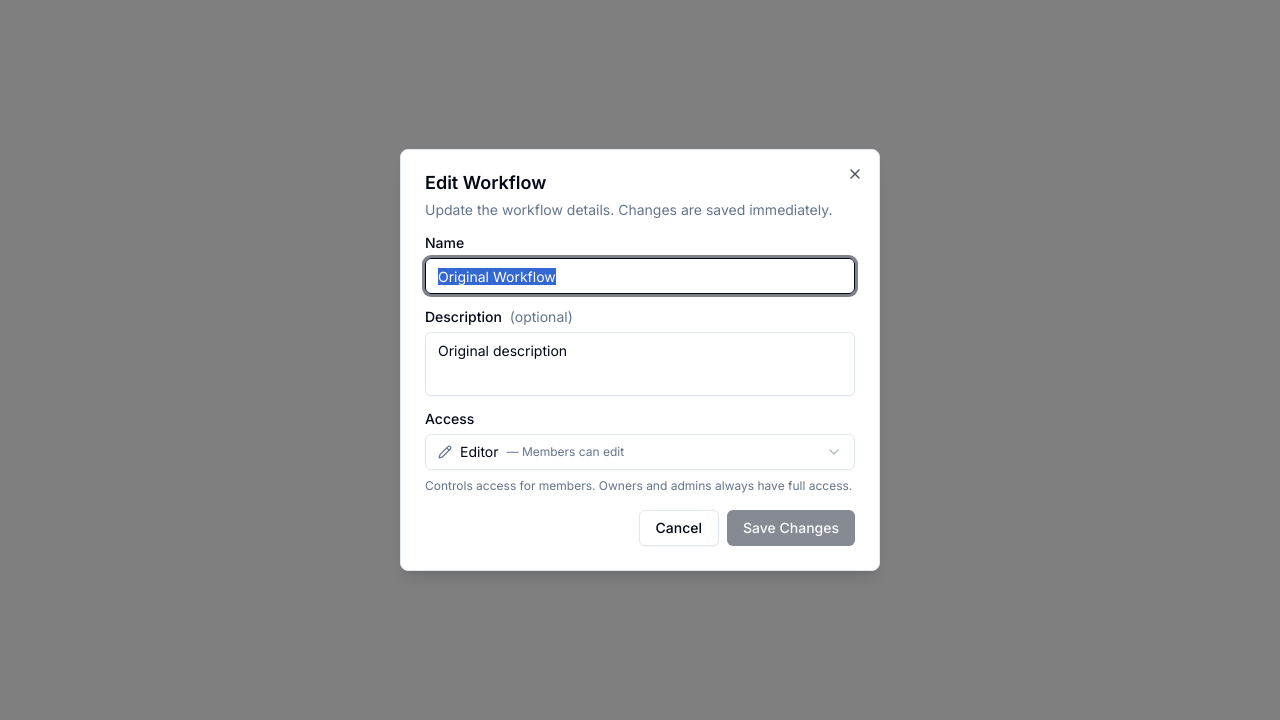
Test: EditWorkflowDialog › should show validation error for short name
This screenshot has width=1280, height=720.
Replace the text in the field showing "Original Workflow" with "AB" at (640, 276), box [425,258,855,294]
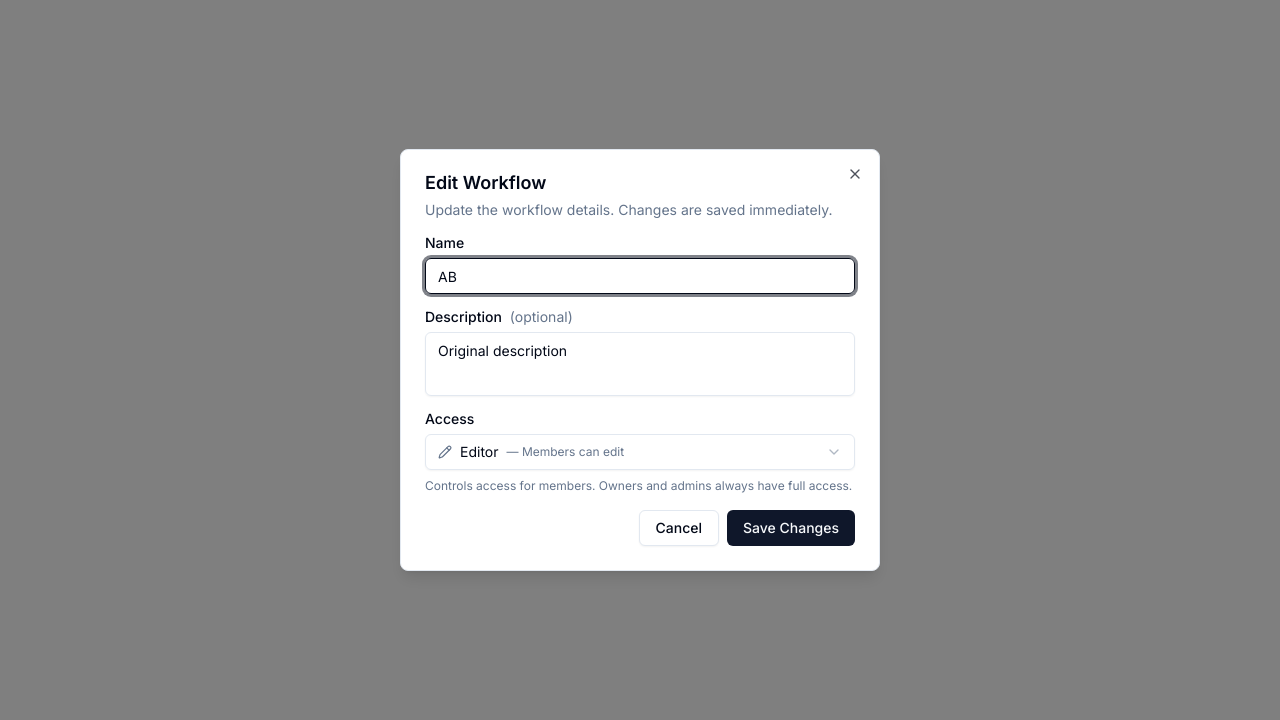
Click the button "Save Changes" at (791, 528), box [727,510,855,546]
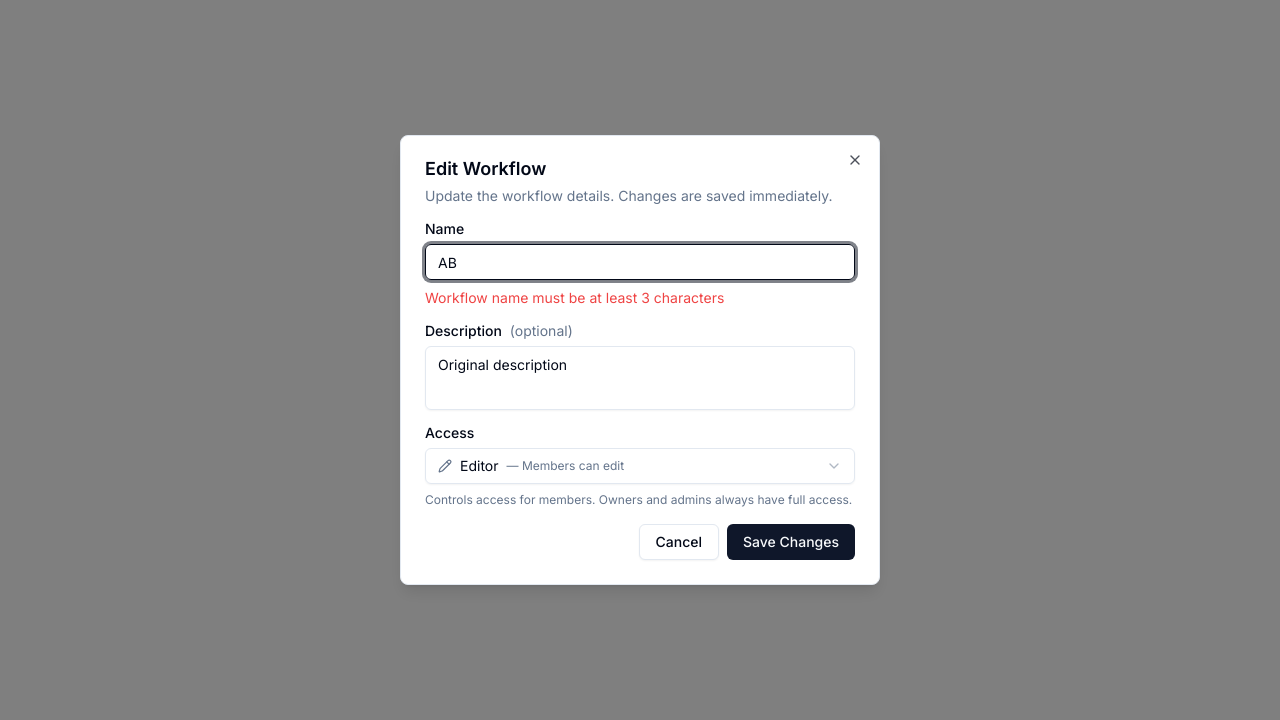
Expected: the text "Workflow name must be at least 3 characters" is shown, [425,289,724,306]
